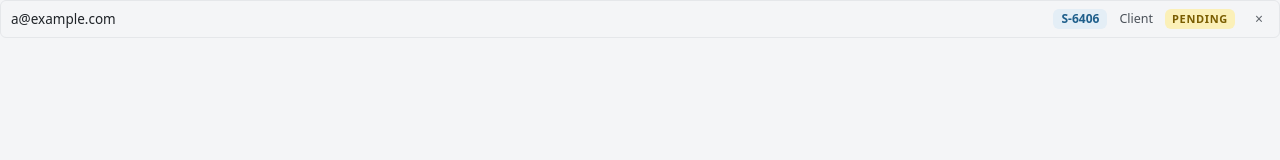
it: GrantList revoke › asks Remove? Yes/No with focus on No, and No keeps the person
Click the button named "Remove a@example.com" at (1259, 19), box [1247,7,1271,31]
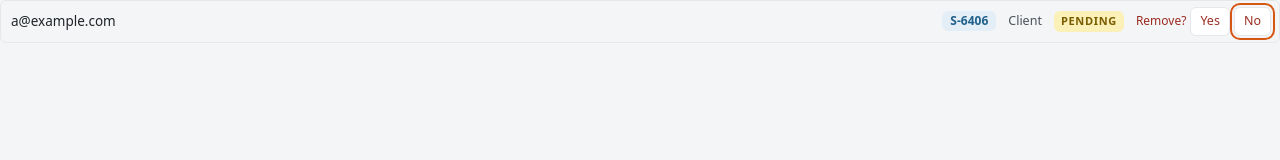
Expected: the text "Remove?" is shown, [1136,12,1186,29]
Click the button "No" at (1252, 21), box [1234,7,1271,36]
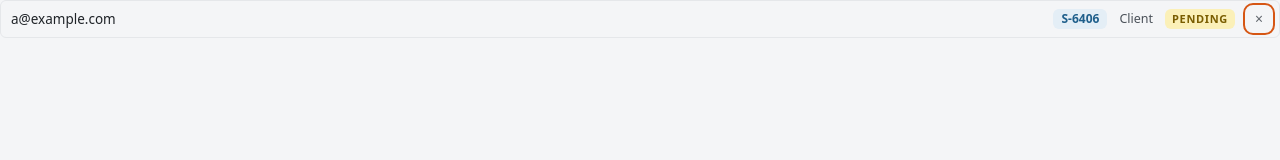
Expected: the text "Remove?" is gone
